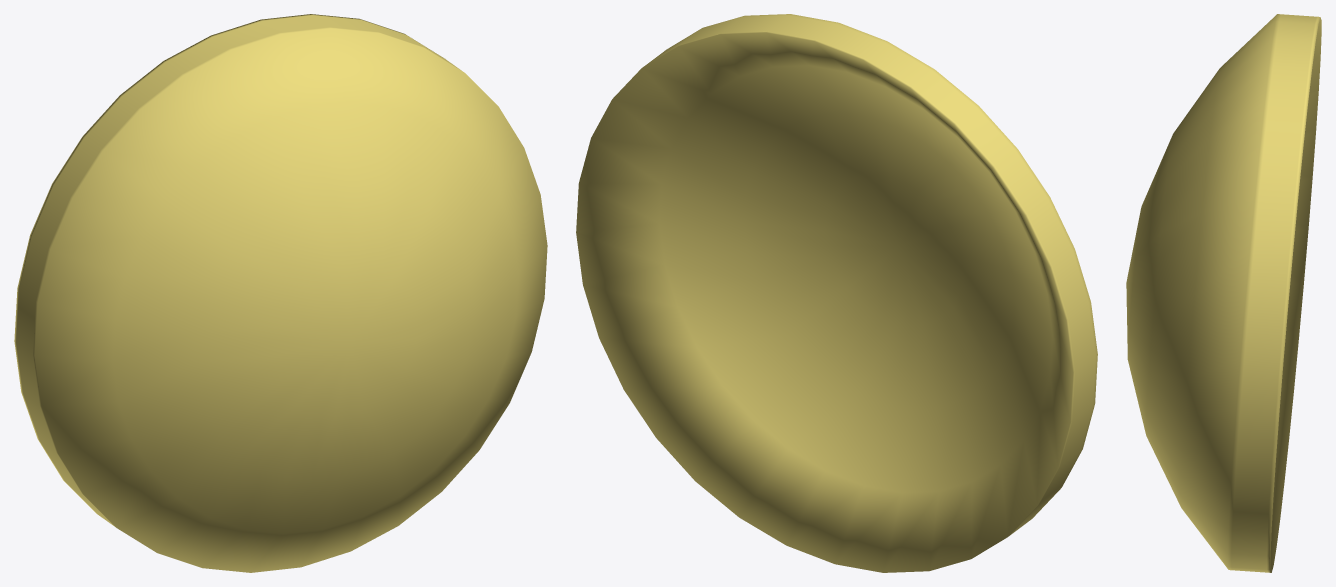
File: cornea-r.glb
3 views of the same model, side by side, from view 1: azimuth 30°, elevation 25°; view 2: azimuth 150°, elevation 25°; view 3: azimuth 270°, elevation 25° (orthographic). The views are drawn at different scales.
Visible parts, largest first — view 1: Cornea.r; view 2: Cornea.r; view 3: Cornea.r.
Part boxes in pixels (bbox=[...]): Cornea.r: bbox=[14, 14, 547, 572]; Cornea.r: bbox=[576, 14, 1097, 572]; Cornea.r: bbox=[1126, 14, 1321, 572].
Bounding box in the file's own units: 0.0143 × 0.0143 × 0.00498.
